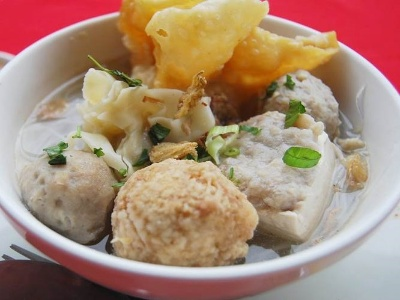bakso: (34, 58, 343, 259)
